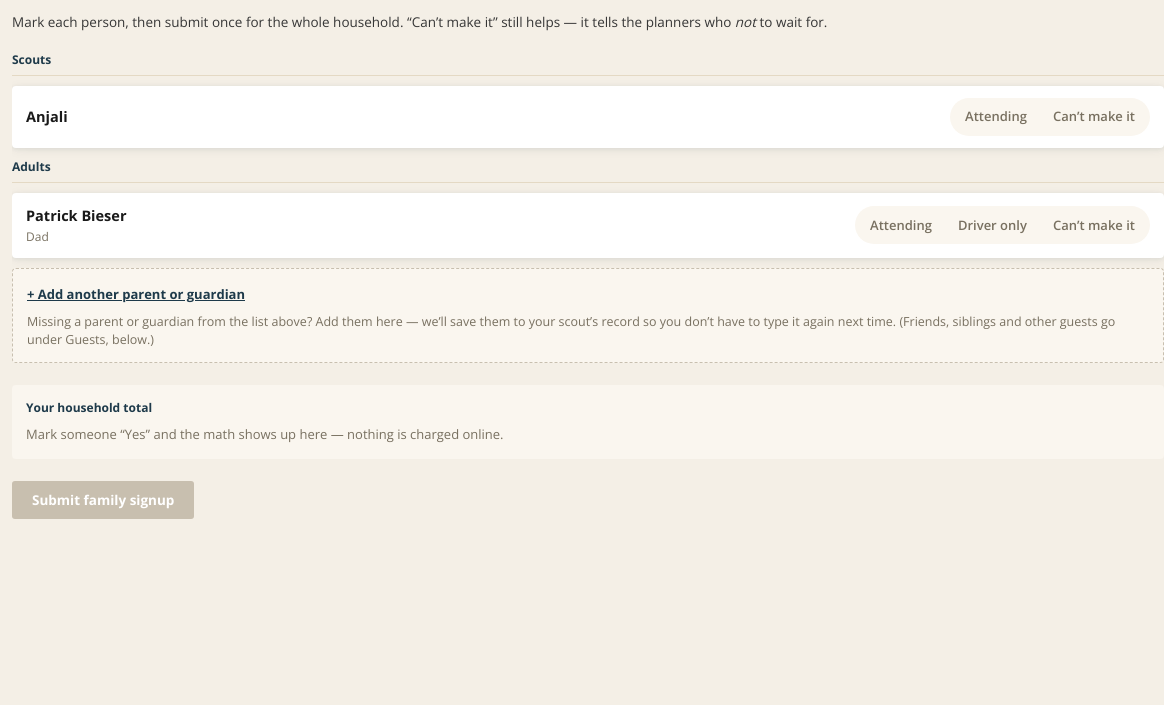
Test: PersonFirstForm — days attending › Family_CanAddADay_WithThePlusButton
Click the button "Attending" in the row of "Anjali".
click(996, 117)  # box left=953, top=101, right=1039, bottom=133
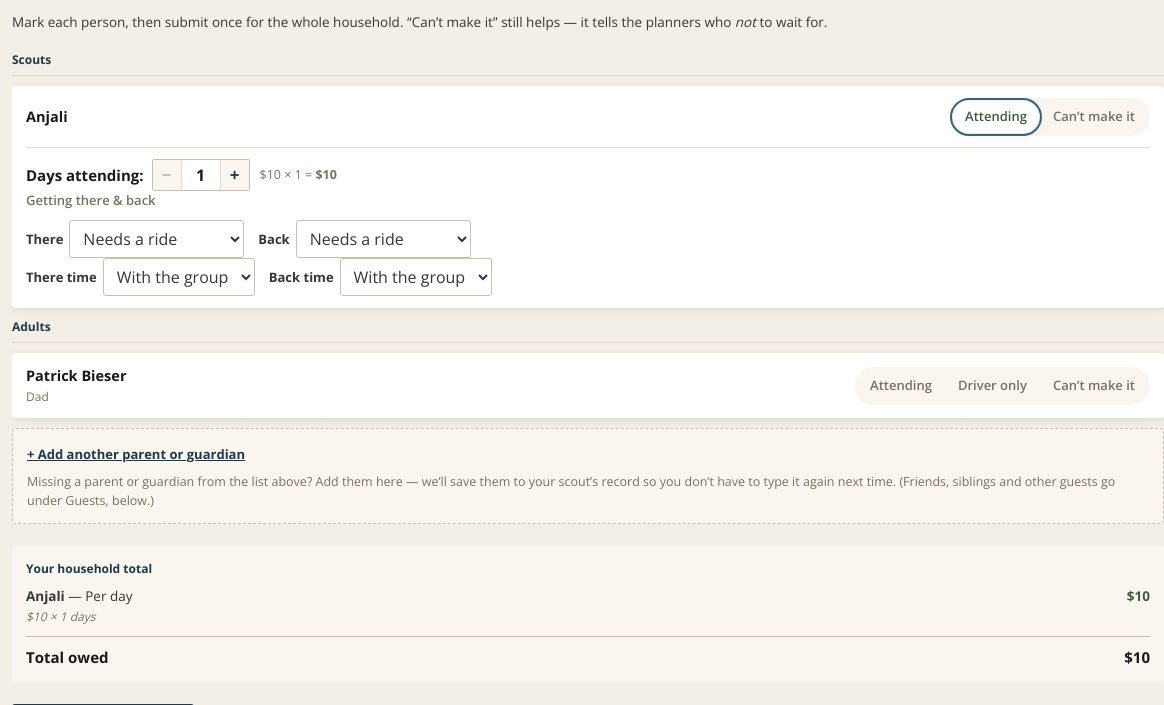
Click the button named "One more day".
click(234, 175)  # box left=220, top=160, right=248, bottom=190
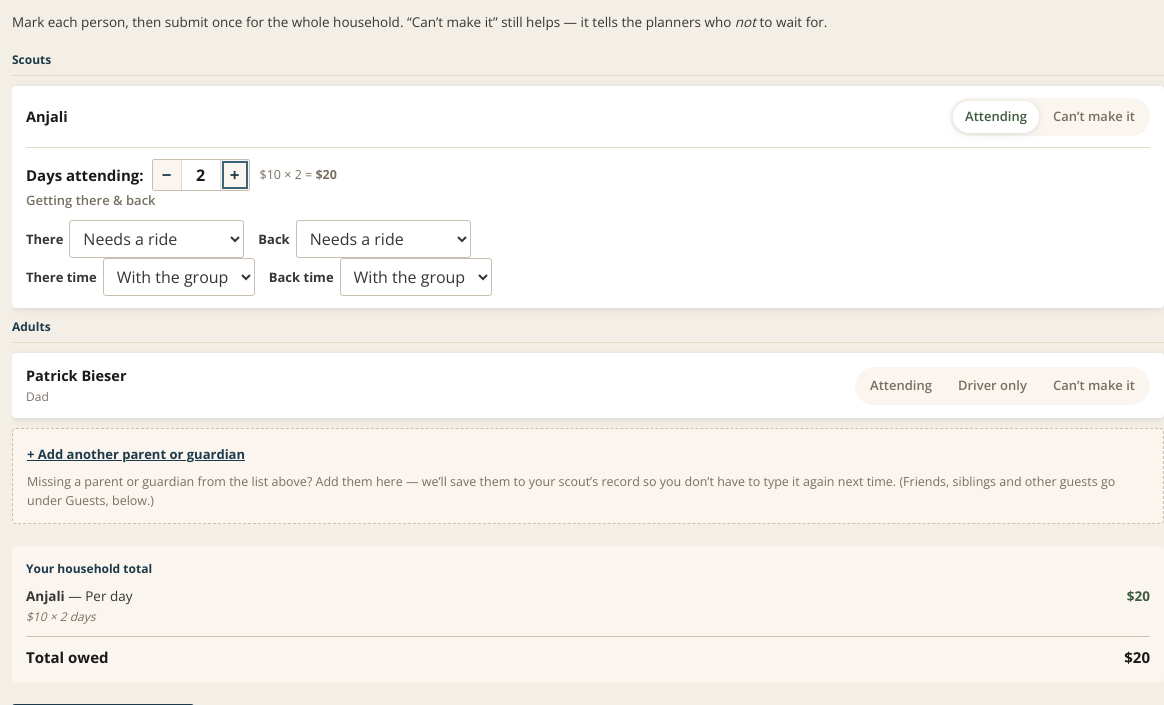
Now the number field labelled "Days attending:" holds "2", box left=180, top=160, right=220, bottom=190
